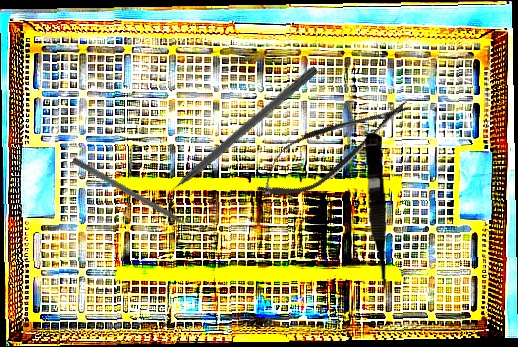Micro Scissor: (244, 79, 423, 215), (361, 131, 393, 299)
Pusher: (149, 63, 320, 209), (70, 156, 203, 238)
